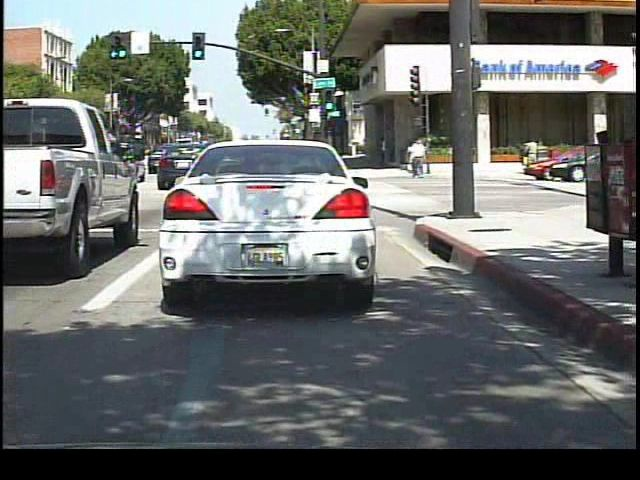person: (520, 135, 542, 176), (407, 136, 427, 179), (446, 136, 464, 178)
